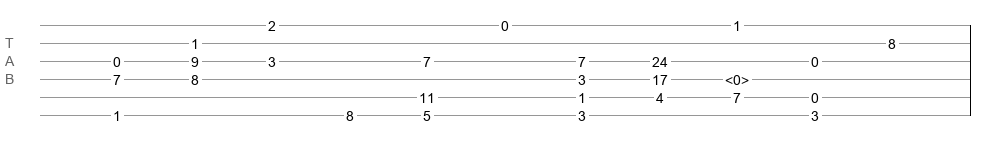0: (113, 54, 121, 64), (501, 18, 509, 28), (811, 90, 819, 100), (811, 54, 819, 64)
1: (113, 108, 121, 118), (191, 36, 199, 46), (578, 90, 586, 100), (733, 18, 741, 28)
11: (419, 90, 435, 100)
17: (652, 72, 668, 82)
2: (268, 18, 276, 28)
24: (652, 54, 668, 64)
3: (268, 54, 276, 64), (578, 72, 586, 82), (578, 108, 586, 118), (811, 108, 819, 118)
4: (656, 90, 664, 100)
5: (423, 108, 431, 118)
7: (113, 72, 121, 82), (423, 54, 431, 64), (578, 54, 586, 64), (733, 90, 741, 100)
8: (191, 72, 199, 82), (346, 108, 354, 118), (888, 36, 896, 46)
9: (191, 54, 199, 64)
harmonic: (725, 72, 749, 82)
